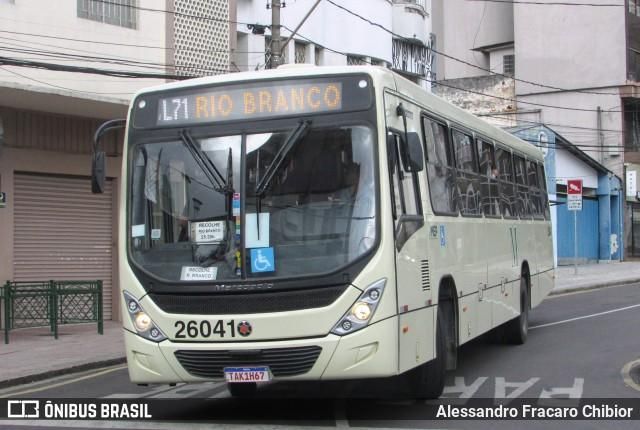RIO BRANCO: (191, 81, 343, 123)
